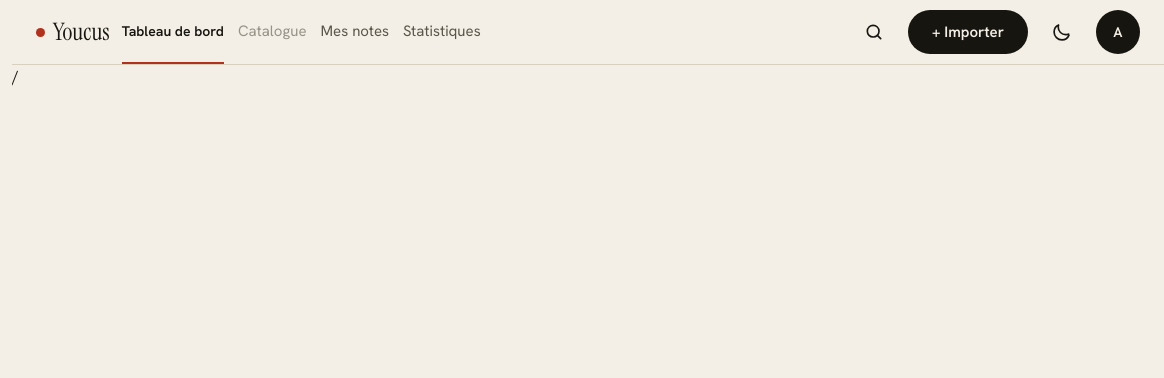
it: AccountMenu (Figma 108:142) › closes on Échap and gives the focus back to the avatar
Click the button named "Compte de Alice Martin": click(1118, 32) top-left (1096, 10), bottom-right (1140, 54)
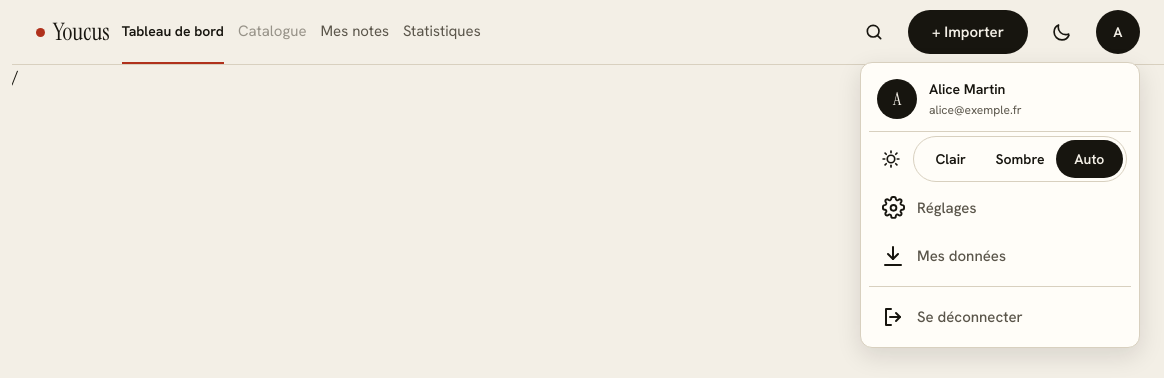
Press Escape
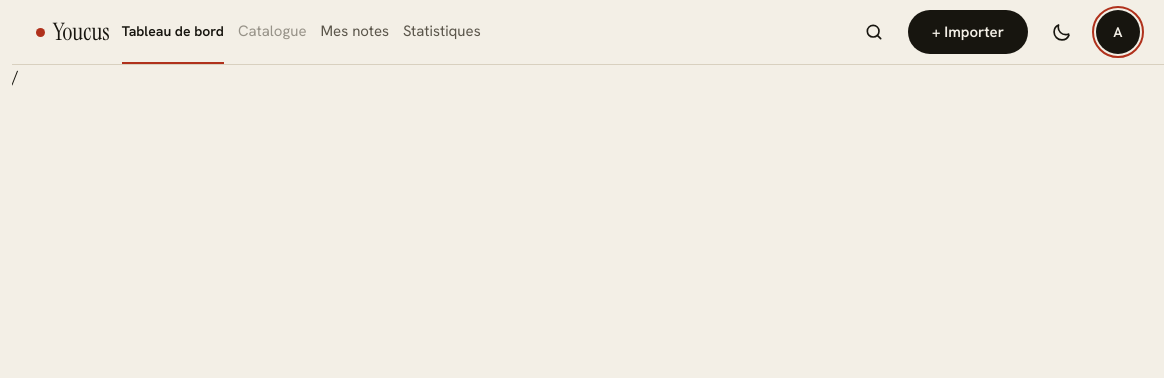
Now the text "alice@exemple.fr" is gone
